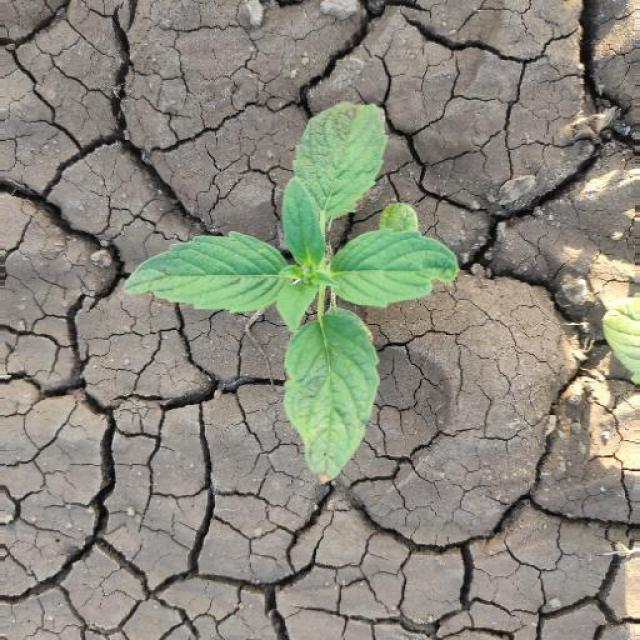crop: (122, 112, 462, 482)
